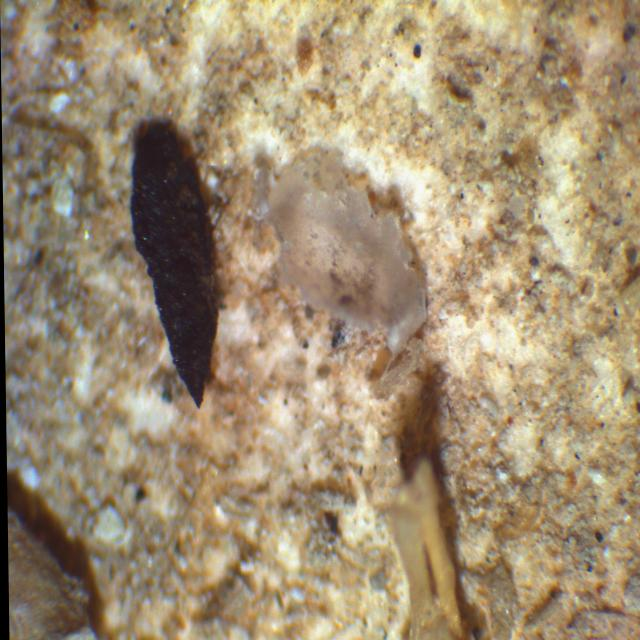microplastic: (215, 117, 465, 378)
